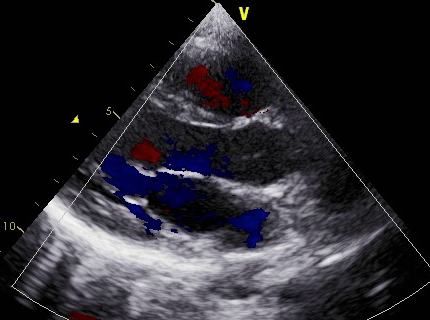MR: (130, 162, 184, 226)
